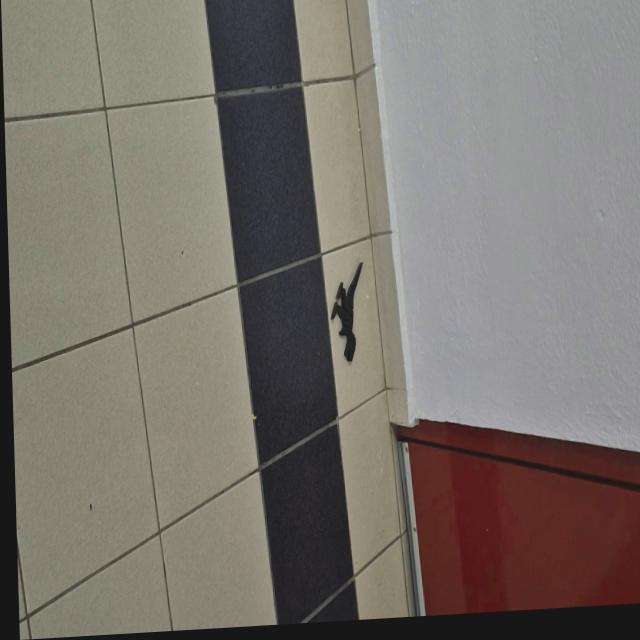dino: (327, 262, 365, 364)
